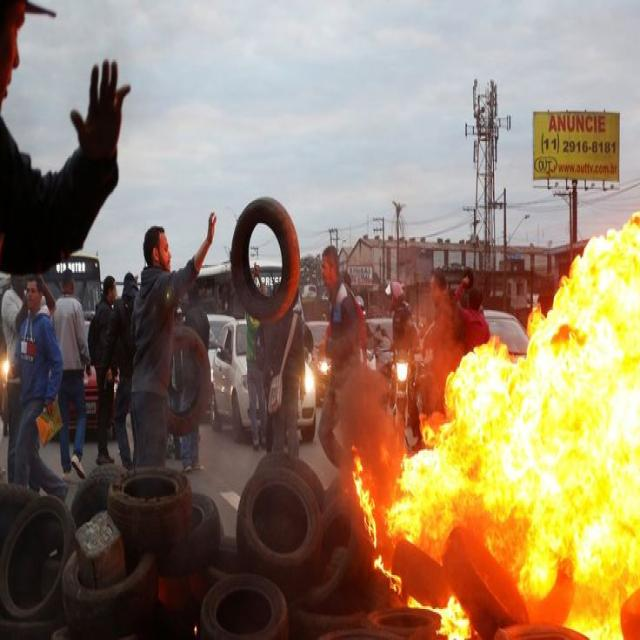fire: (520, 206, 640, 640), (466, 334, 522, 593), (385, 449, 464, 566), (419, 354, 464, 447), (407, 594, 473, 640), (351, 449, 377, 551), (373, 554, 403, 596)
